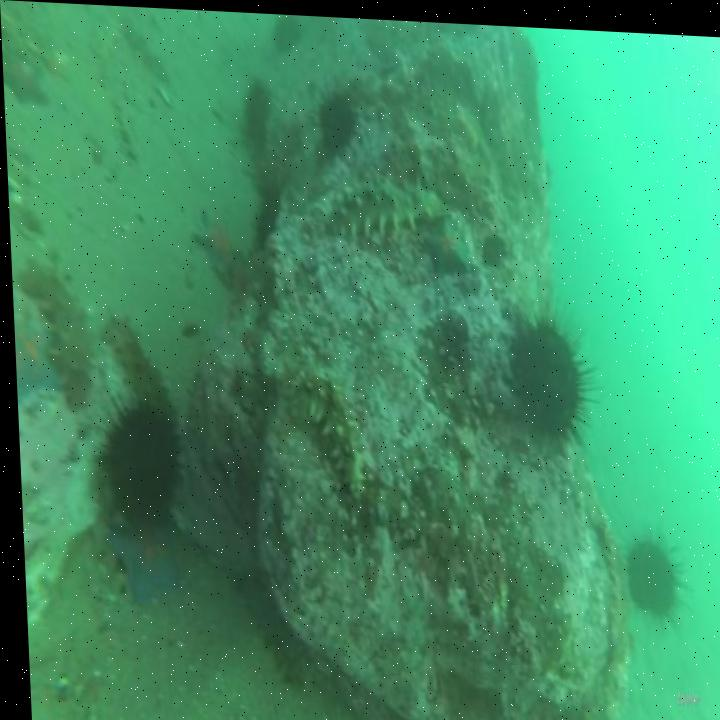echinus: (98, 407, 177, 524), (513, 314, 582, 439), (624, 531, 674, 615), (317, 93, 355, 142), (244, 85, 267, 132), (276, 15, 298, 51)
holothurian: (18, 271, 90, 407), (293, 371, 367, 498), (328, 168, 431, 231), (98, 317, 162, 408), (594, 509, 624, 648), (430, 317, 471, 418)
starfish: (108, 537, 175, 604), (14, 319, 49, 407), (426, 214, 470, 266), (193, 216, 231, 267)
